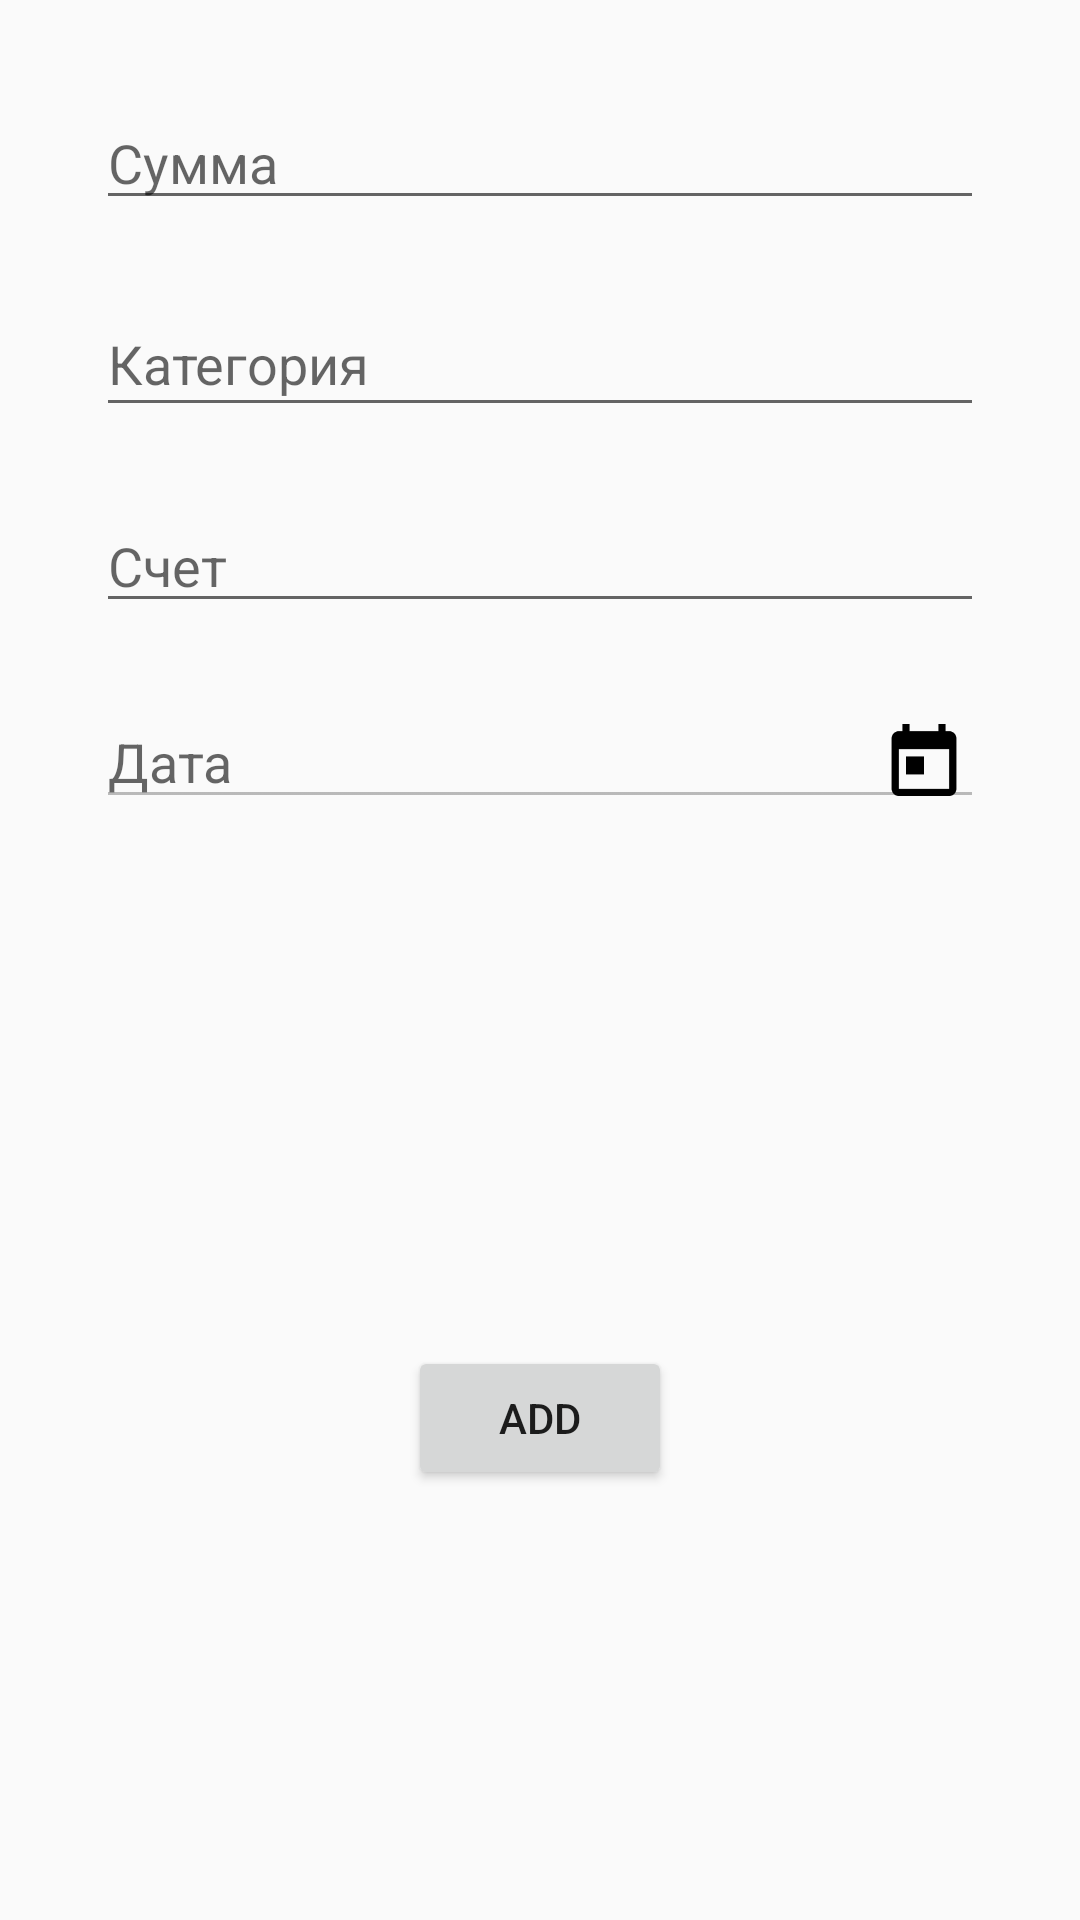

Locate icon controls on the screen. Image size 1080px×1920px, boxes as (x1, y1, x2, y2).
calendar: (888, 724, 960, 796)
